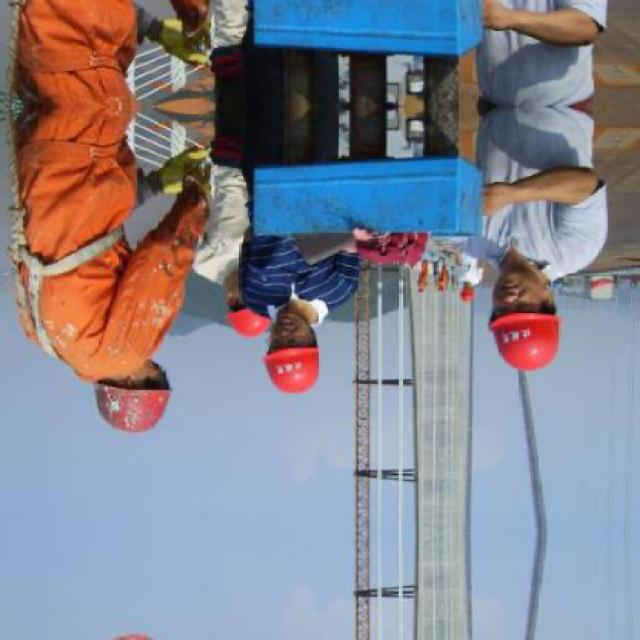con casco: (64, 354, 193, 448), (479, 258, 570, 381), (248, 311, 357, 406)
